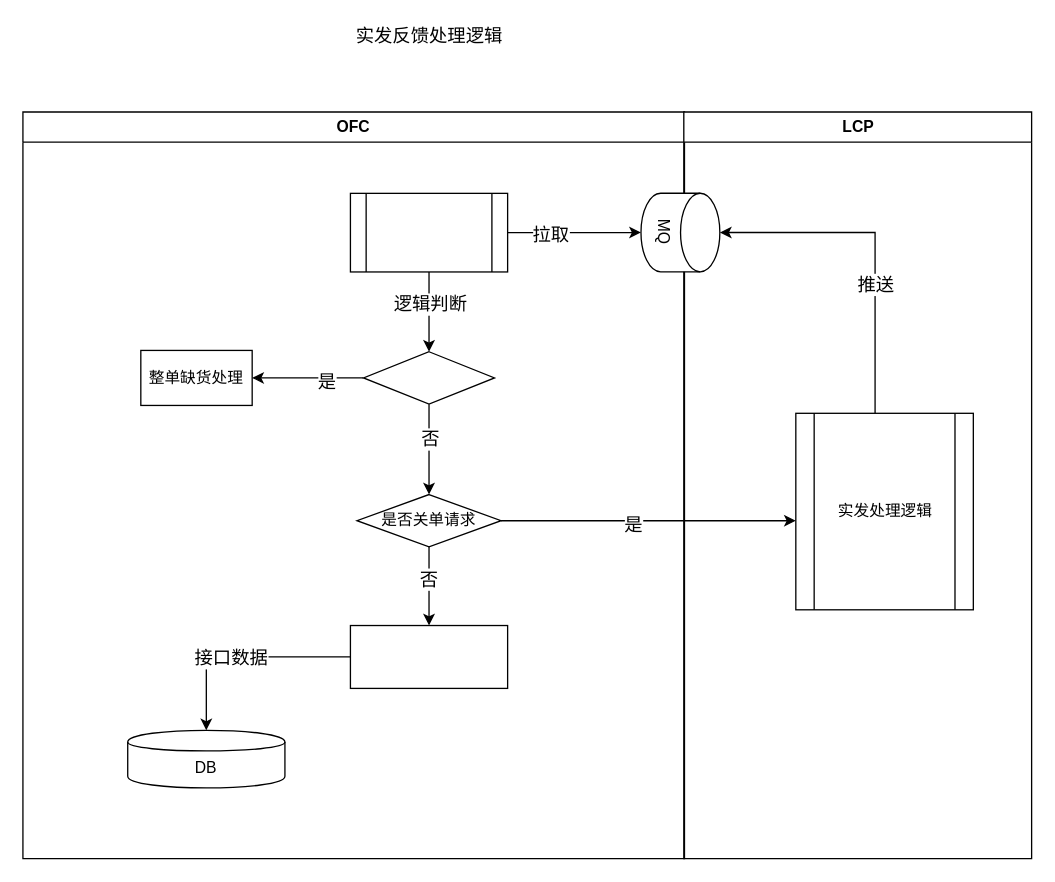
This 1055x882 diagram has some shape labels left out. The centre of each missing label's shape, as x and y in pixels:
从MQ拉取实发反馈数据: pixel 428 232
数据解析: pixel 428 656
是否整单缺货: pixel 428 377
